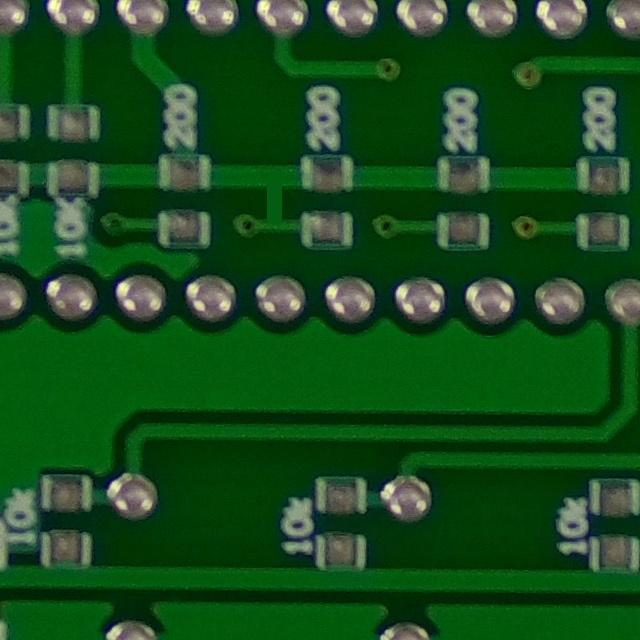short: (237, 165, 304, 235)
